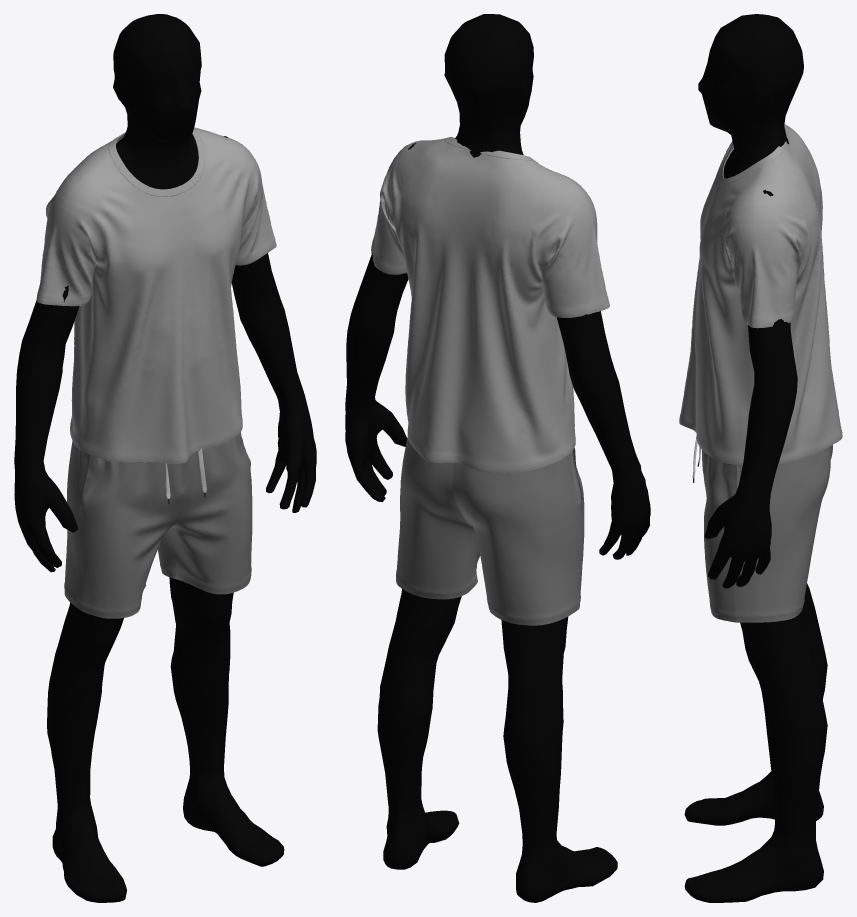
Rendered from male-transformed.glb.
3 views of the same model, side by side, from view 1: azimuth 30°, elevation 25°; view 2: azimuth 150°, elevation 25°; view 3: azimuth 270°, elevation 25° (orthographic).
Parts seen in each view (by area): view 1: Object_2, Object_3, Object_6; view 2: Object_2, Object_3, Object_6; view 3: Object_2, Object_3, Object_6.
Part boxes in pixels (<box>): Object_2: <box>14,14,316,902</box>; Object_3: <box>36,127,276,463</box>; Object_6: <box>64,432,252,618</box>; Object_2: <box>345,14,650,902</box>; Object_3: <box>371,137,609,473</box>; Object_6: <box>396,436,584,625</box>; Object_2: <box>684,14,827,902</box>; Object_3: <box>679,124,842,465</box>; Object_6: <box>692,436,832,622</box>.
Bounding box in the file's own units: 64.95 × 180 × 31.65.
Materials: 3 (2 with a texture image).
